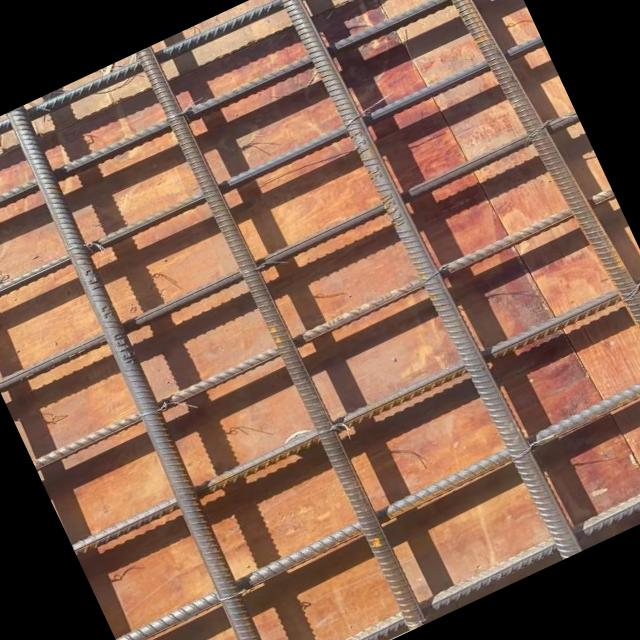ribbed bar: (274, 0, 584, 567), (134, 42, 429, 633), (32, 185, 618, 470), (0, 109, 581, 392), (71, 272, 640, 558), (0, 105, 293, 640), (0, 30, 545, 315), (111, 357, 640, 640), (0, 0, 513, 246), (409, 0, 640, 504), (0, 0, 485, 188), (154, 457, 640, 640)
